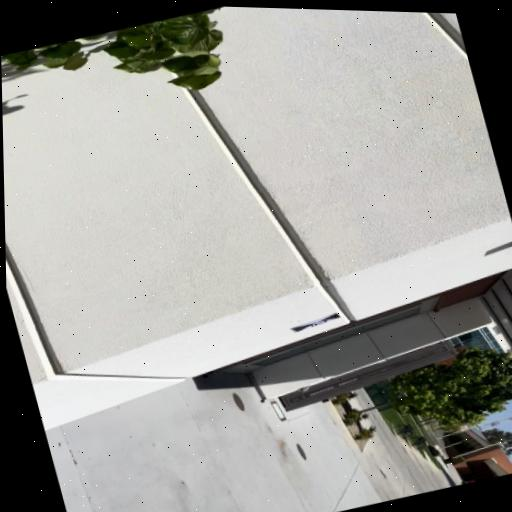target2: (290, 313, 341, 333)
